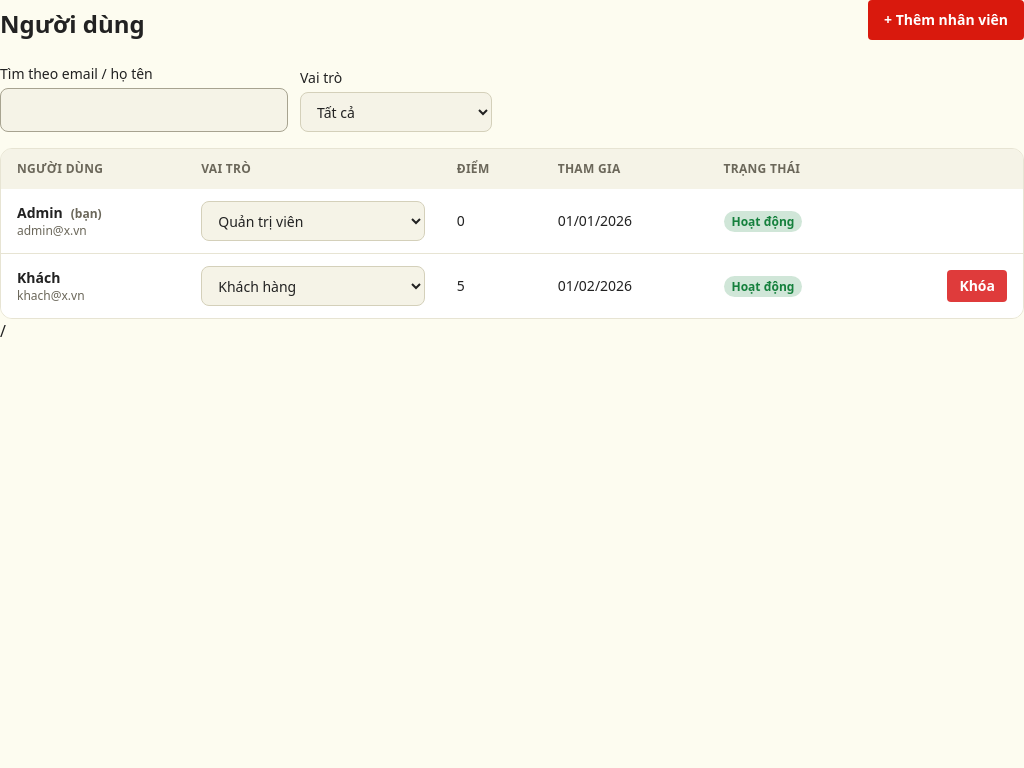
Test: AdminUsersPage (A09) › khóa tài khoản: xác nhận rồi gửi isActive=false; lỗi FORBIDDEN hiện message của server
This screenshot has width=1024, height=768.
Click the button with aria-label "Khóa khach@x.vn" at (977,286), box [947,270,1007,302]
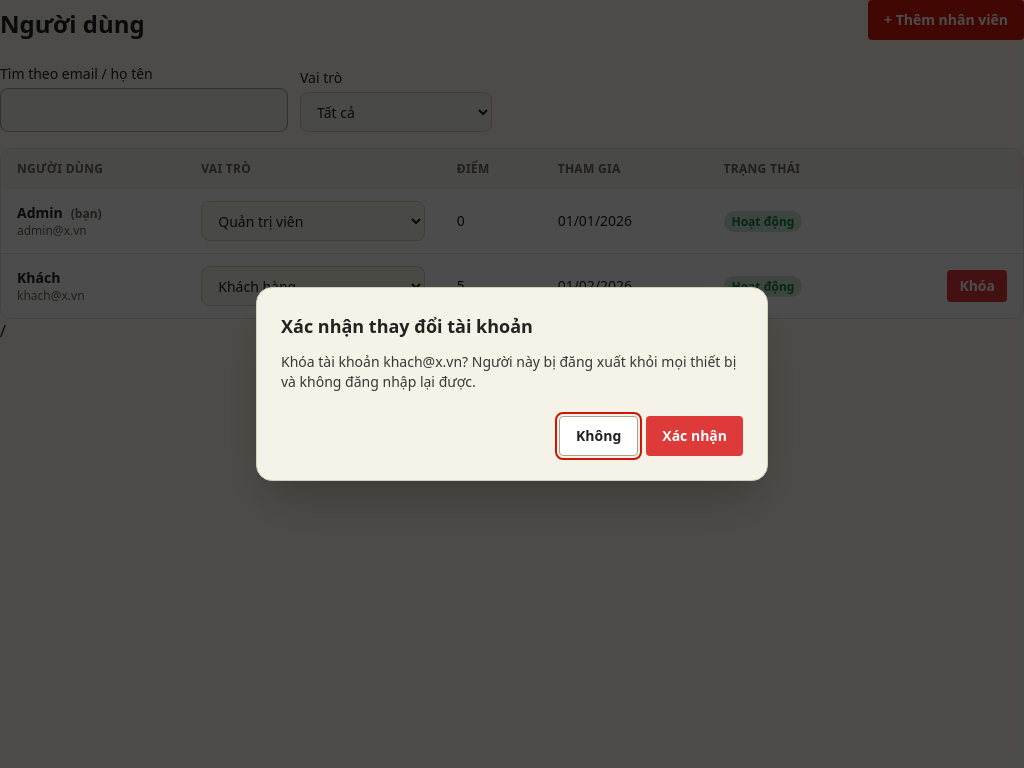
Click the button "Xác nhận" at (695,436), box [646,416,743,456]
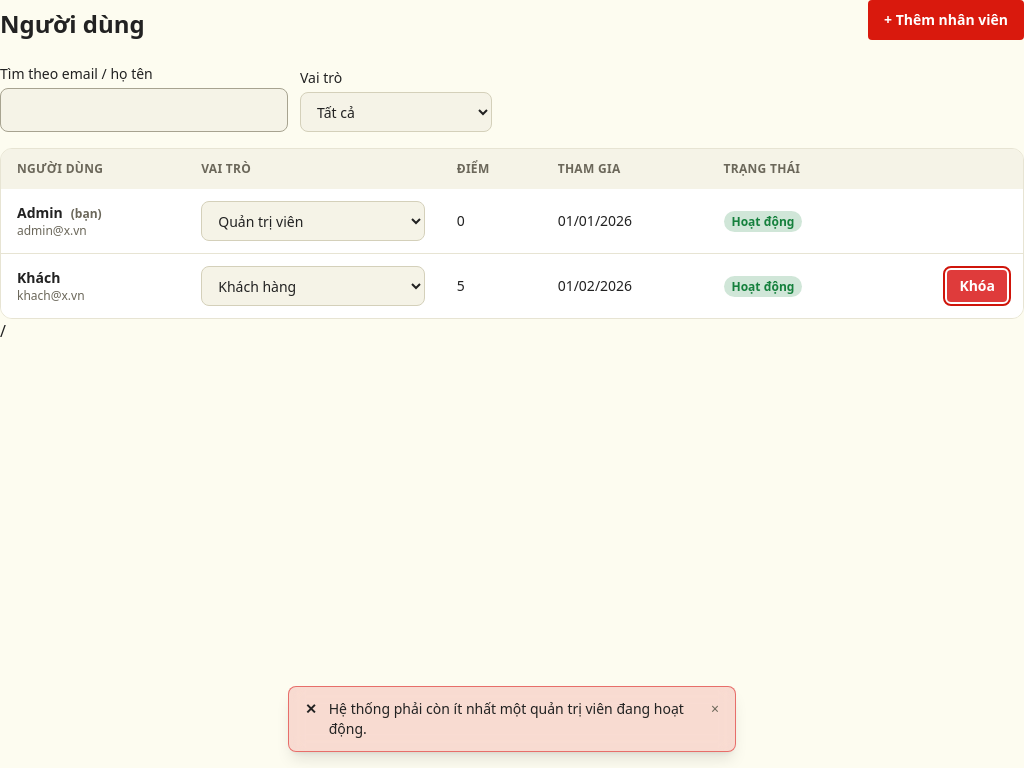
Check: the text "Hệ thống phải còn ít nhất một quản trị viên đang hoạt động." is shown, box [329,699,699,739]
